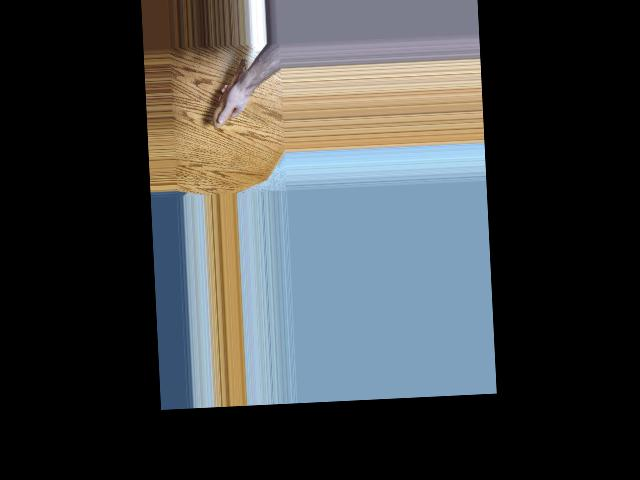sweet_potato: (211, 56, 252, 125)
